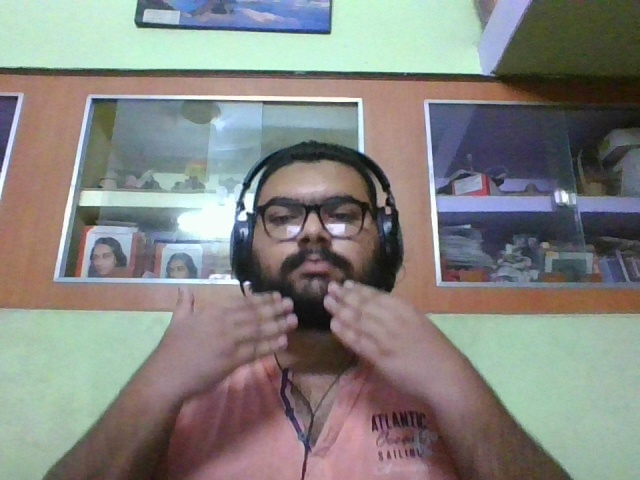thankyou: (150, 280, 465, 426)
